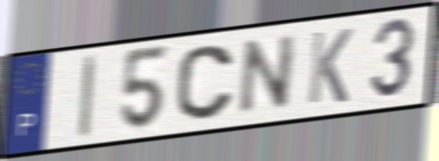3: (365, 14, 417, 105)
5: (117, 43, 172, 136)
C: (174, 42, 237, 124)
I: (76, 52, 99, 142)
K: (304, 26, 355, 107)
N: (234, 31, 300, 118)
